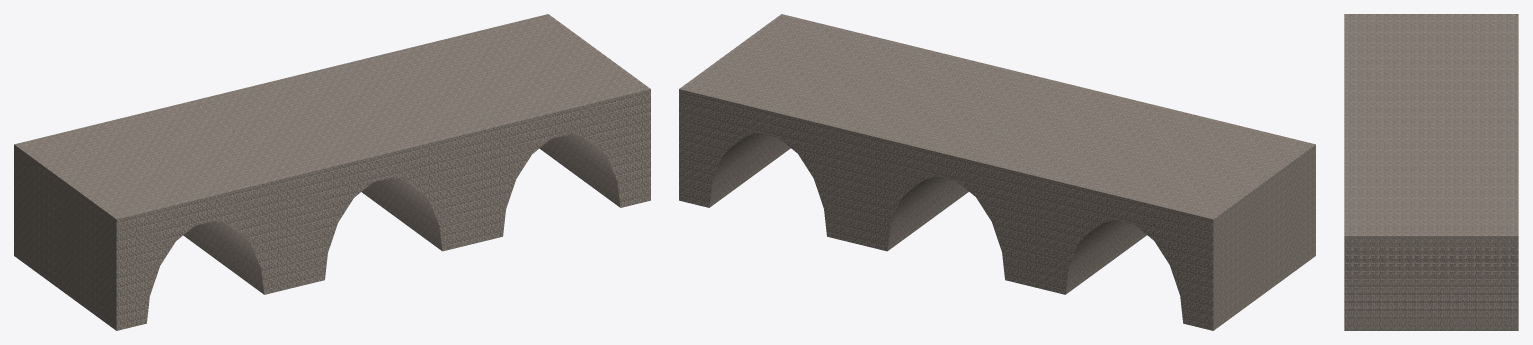
File: Puente_Piedra_Completo_Textura.FBX
3 views of the same model, side by side, from view 1: azimuth 30°, elevation 25°; view 2: azimuth 150°, elevation 25°; view 3: azimuth 270°, elevation 25° (orthographic). The views are drawn at different scales.
Visible parts, largest first — view 1: Puente_Piedra3, Puente_Piedra2, Puente_Piedra1; view 2: Puente_Piedra3, Puente_Piedra2, Puente_Piedra1; view 3: Puente_Piedra2, Puente_Piedra1, Puente_Piedra3.
Boxes of the visible parts, left/top/right/bottom form: Puente_Piedra3: left=14, top=101, right=294, bottom=330; Puente_Piedra2: left=370, top=14, right=650, bottom=243; Puente_Piedra1: left=193, top=57, right=472, bottom=287; Puente_Piedra3: left=1035, top=101, right=1315, bottom=330; Puente_Piedra2: left=679, top=14, right=959, bottom=243; Puente_Piedra1: left=857, top=57, right=1136, bottom=287; Puente_Piedra2: left=1344, top=162, right=1518, bottom=330; Puente_Piedra1: left=1344, top=88, right=1518, bottom=161; Puente_Piedra3: left=1344, top=14, right=1518, bottom=87.
Size of the model in its own units: 30.09 by 6.01 by 9.99.
